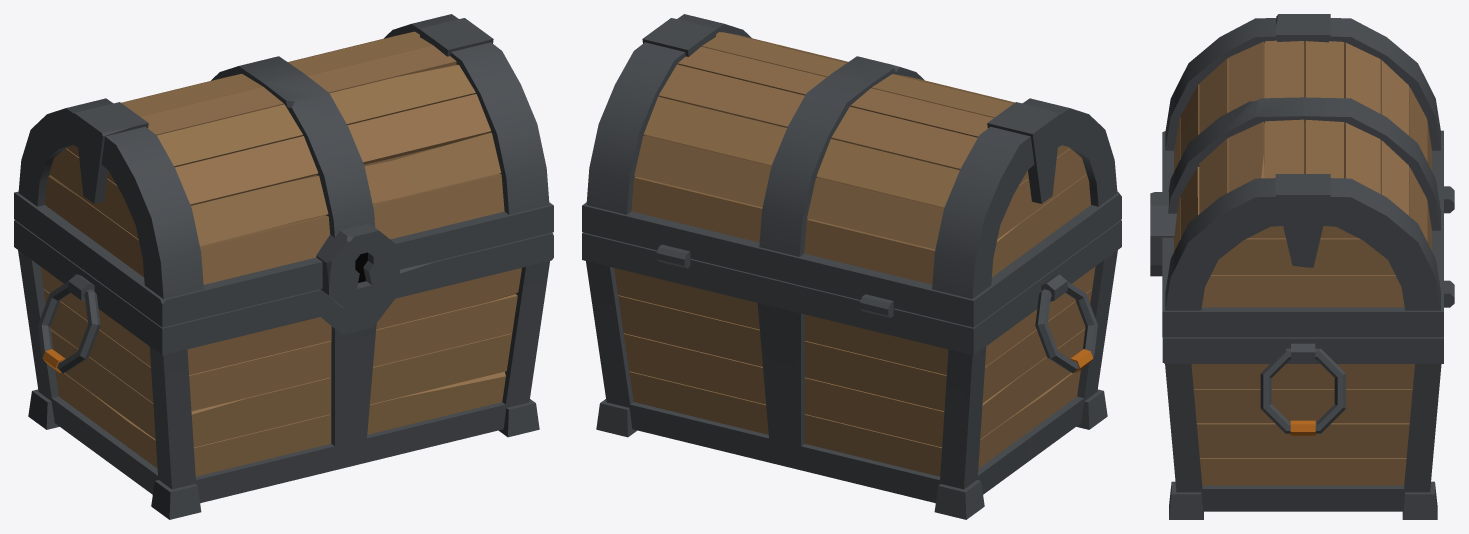
Rendered from Chest_04.fbx.
The picture shows the model from 3 angles, left to right: view 1: azimuth 30°, elevation 25°; view 2: azimuth 150°, elevation 25°; view 3: azimuth 270°, elevation 25°; orthographic projection. The views are drawn at different scales.
Parts seen in each view (by area): view 1: Chest_04_2_LOD0, Chest_04_1_LOD0; view 2: Chest_04_2_LOD0, Chest_04_1_LOD0; view 3: Chest_04_2_LOD0, Chest_04_1_LOD0.
Part boxes in pixels (x1,y1,x2,y2): Chest_04_2_LOD0: (14,14,553,327); Chest_04_1_LOD0: (14,220,553,519); Chest_04_2_LOD0: (582,14,1121,327); Chest_04_1_LOD0: (582,220,1121,519); Chest_04_2_LOD0: (1150,14,1443,337); Chest_04_1_LOD0: (1162,186,1454,519).
Size of what is drawn, in the model's own units: 0.9672 by 0.6827 by 0.5708.
